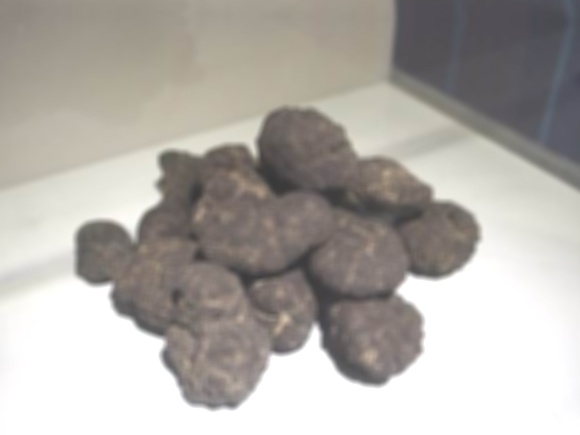halobolite: (198, 180, 334, 274), (283, 201, 412, 299), (112, 257, 240, 333), (159, 321, 268, 408), (320, 279, 420, 371), (261, 97, 347, 199), (395, 199, 484, 282), (334, 149, 434, 222), (68, 206, 149, 288), (153, 140, 249, 203)
